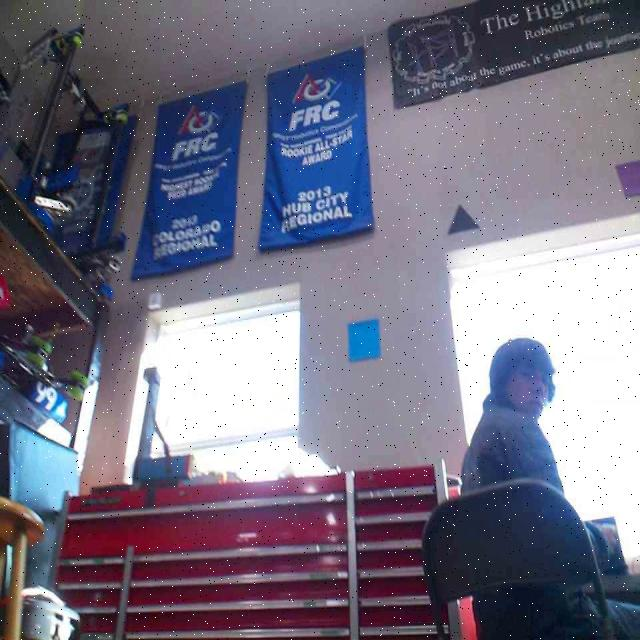square_blue: (344, 316, 383, 361)
triangle_black: (448, 202, 479, 234)
